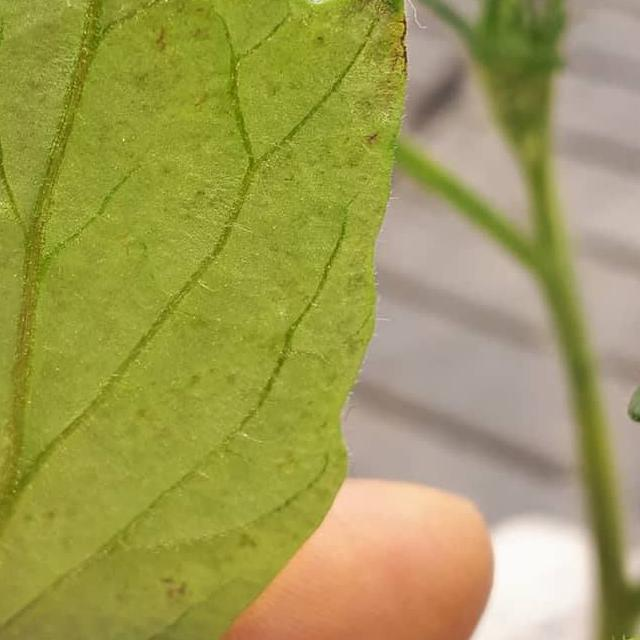Tomato mold leaf: (0, 0, 440, 640)
